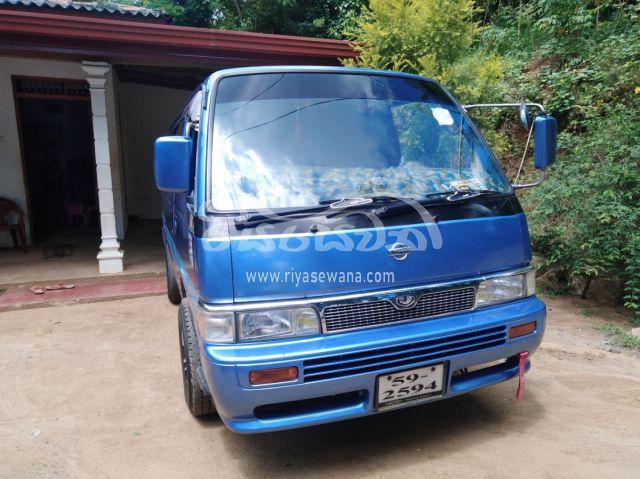van: (133, 59, 575, 436)
